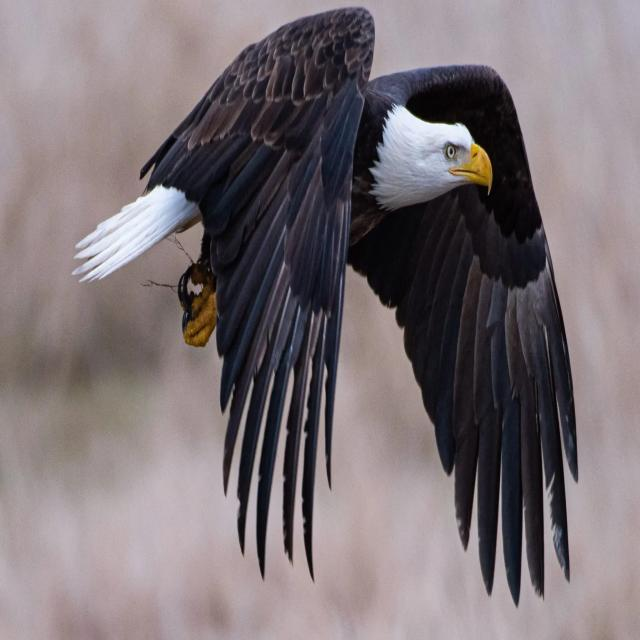Eagle: (73, 3, 580, 606)
